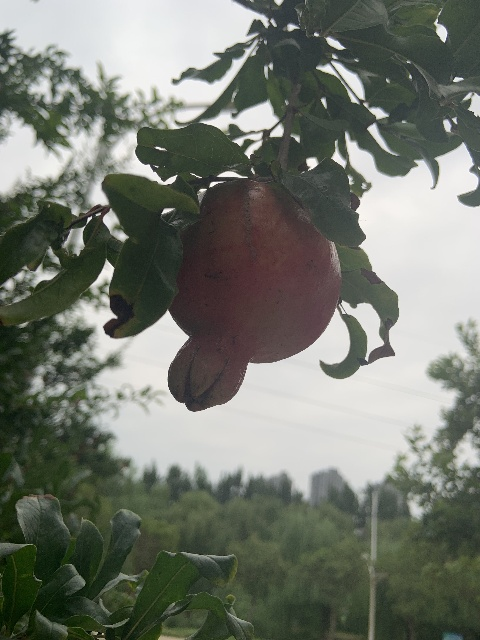ripe: (167, 179, 341, 413)
